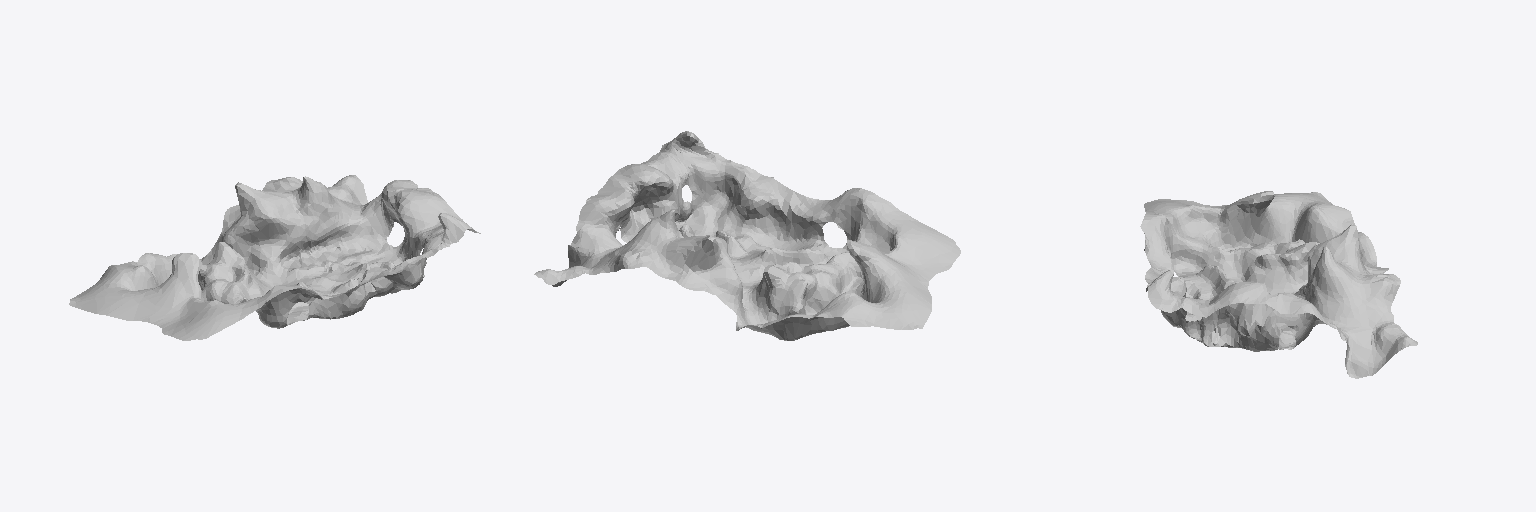
The model's file is rocks_07.obj.
3 views of the same model, side by side, from view 1: azimuth 30°, elevation 25°; view 2: azimuth 150°, elevation 25°; view 3: azimuth 270°, elevation 25° (orthographic).
Parts seen in each view (by area): view 1: rocks_07; view 2: rocks_07; view 3: rocks_07.
Boxes of the visible parts, x1,y1,x2,y2 form: rocks_07: [69, 175, 480, 340]; rocks_07: [534, 131, 960, 340]; rocks_07: [1140, 191, 1417, 378].
Size of the model in its own units: 515 by 146 by 365.